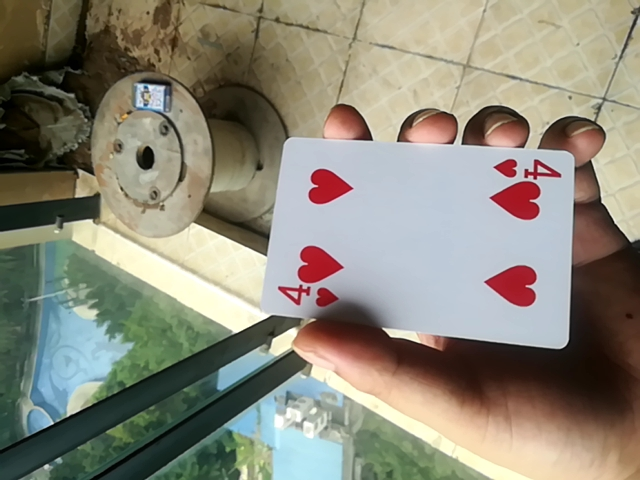hx 4: (261, 134, 572, 352)
